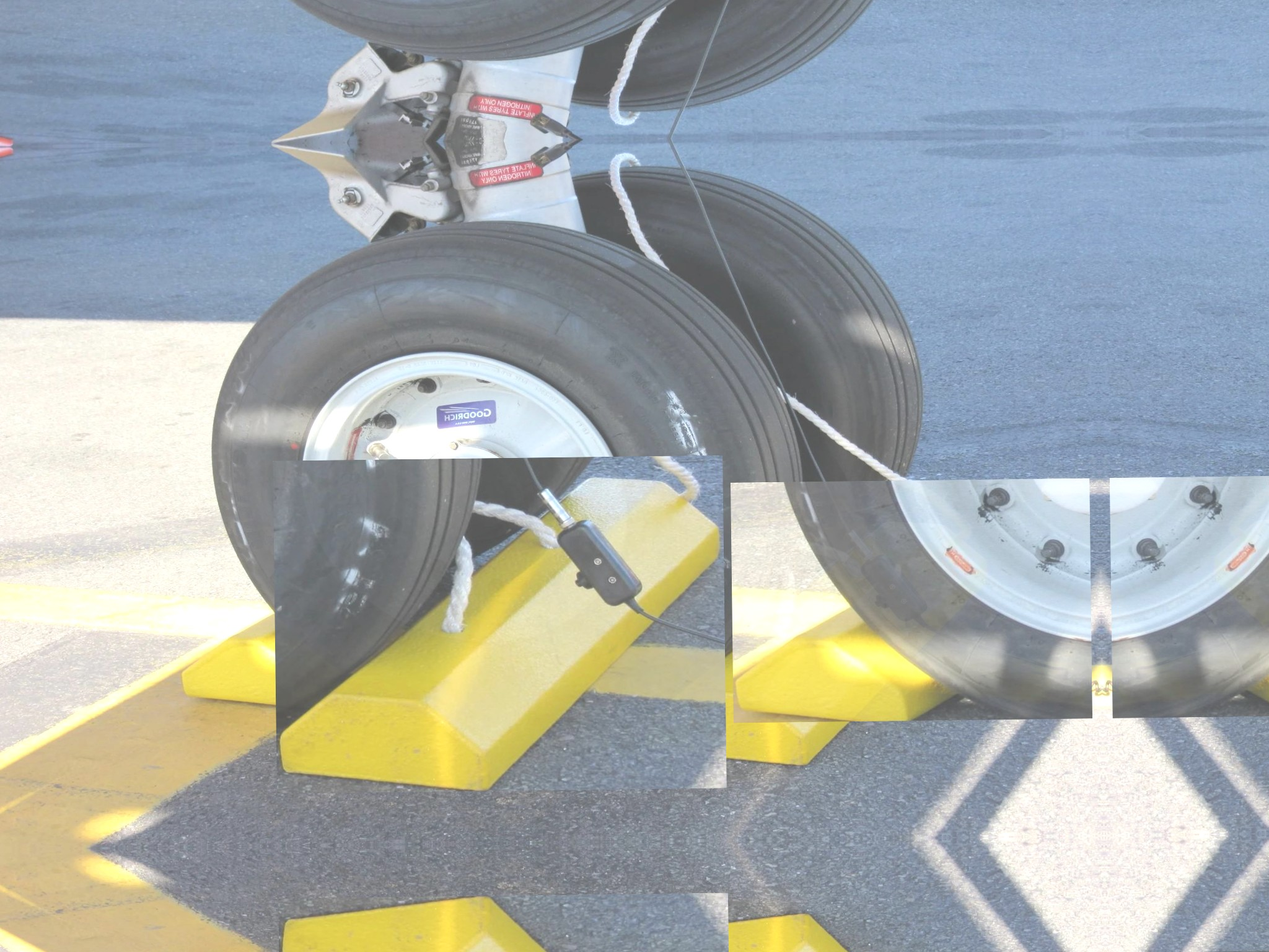chock: (273, 455, 727, 794), (639, 504, 993, 768), (731, 478, 1092, 723), (178, 510, 469, 707), (1110, 473, 1269, 718)
wheel: (207, 218, 800, 719), (585, 162, 920, 561)
